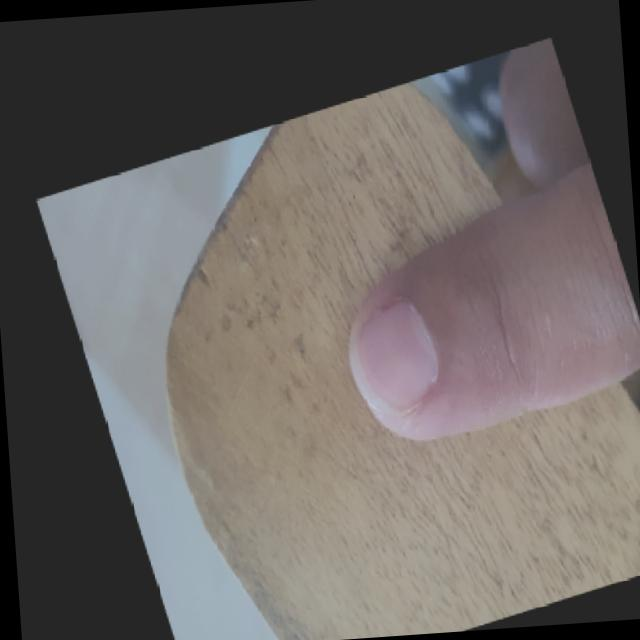Nail: (351, 299, 438, 411)
